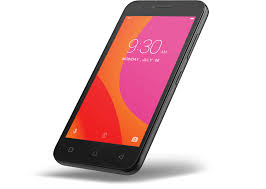lenovo: (45, 1, 209, 175)
